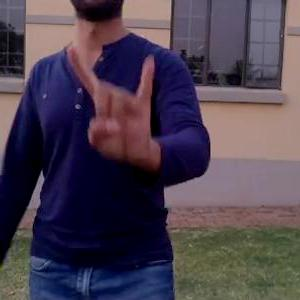takeoff-hand: (62, 37, 163, 174)
